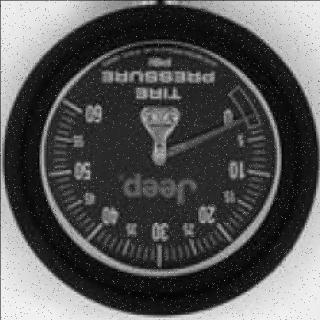gauge: (0, 0, 320, 320), (213, 79, 245, 119), (56, 91, 96, 123), (148, 144, 171, 166), (234, 108, 260, 125)
